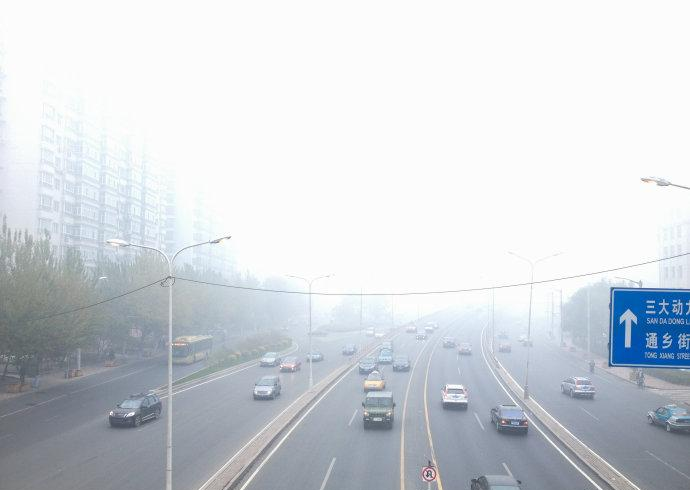bus: (168, 333, 213, 365)
car: (109, 390, 163, 429), (361, 389, 397, 431), (648, 402, 690, 436), (491, 402, 529, 436), (559, 375, 597, 399), (469, 474, 523, 490), (440, 383, 468, 410), (253, 374, 282, 400), (364, 369, 386, 391), (358, 355, 379, 376), (280, 356, 302, 374), (259, 351, 282, 368), (391, 354, 410, 372), (305, 348, 324, 363), (379, 348, 393, 365), (341, 342, 359, 355), (458, 341, 473, 356), (381, 338, 395, 352), (498, 339, 512, 353), (442, 336, 456, 348), (414, 330, 428, 341), (405, 323, 418, 334), (523, 335, 534, 348), (424, 324, 435, 334), (429, 318, 439, 329)
